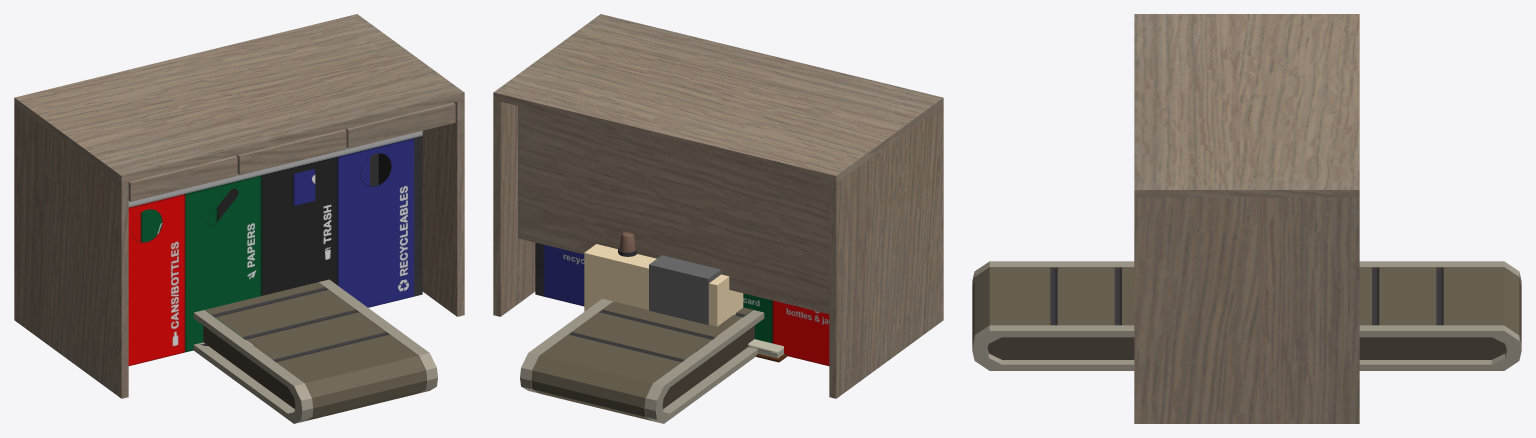
The model's file is Environment.fbx.
3 views of the same model, side by side, from view 1: azimuth 30°, elevation 25°; view 2: azimuth 150°, elevation 25°; view 3: azimuth 270°, elevation 25° (orthographic). The views are drawn at different scales.
Parts seen in each view (by area): view 1: desk, donen alet, trashbin-plastic, trashbin-paper, trashbin-general, trashbin-glass, donen alet yanları; view 2: desk, donen alet, xray, donen alet yanları, trashbin-glass, trashbin-plastic, trashbin-paper, openBook; view 3: desk, donen alet, donen alet yanları.
Part boxes in pixels (x1,y1,x2,y2): desk: [14, 14, 464, 398]; donen alet: [205, 282, 426, 420]; trashbin-plastic: [298, 131, 422, 307]; trashbin-paper: [137, 170, 261, 353]; trashbin-general: [217, 150, 341, 295]; trashbin-glass: [128, 189, 180, 365]; donen alet yanları: [193, 279, 437, 423]; desk: [493, 14, 943, 398]; donen alet: [531, 301, 752, 420]; xray: [584, 244, 743, 351]; donen alet yanları: [520, 298, 764, 423]; trashbin-glass: [777, 301, 829, 365]; trashbin-plastic: [535, 242, 584, 306]; trashbin-paper: [743, 293, 776, 344]; openBook: [748, 339, 787, 362]; desk: [1134, 14, 1359, 423]; donen alet: [972, 267, 1521, 344]; donen alet yanları: [972, 261, 1521, 370].
Size of the model in its own units: 75.74 by 47.75 by 100.
10 materials, 6 textured.
